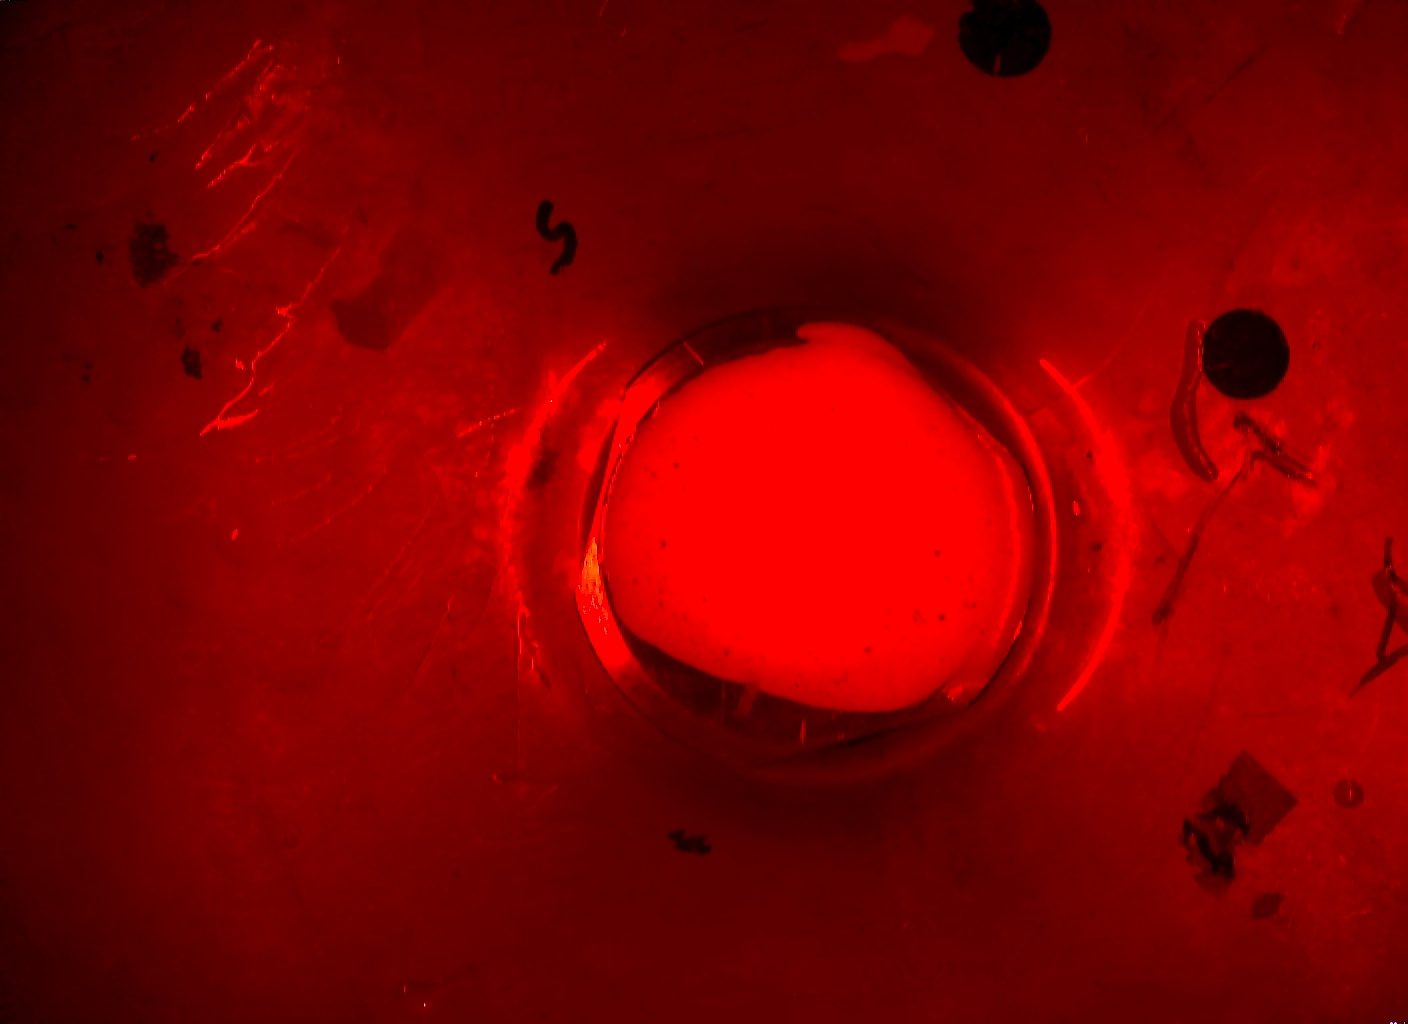shapka: (584, 323, 1032, 719)
